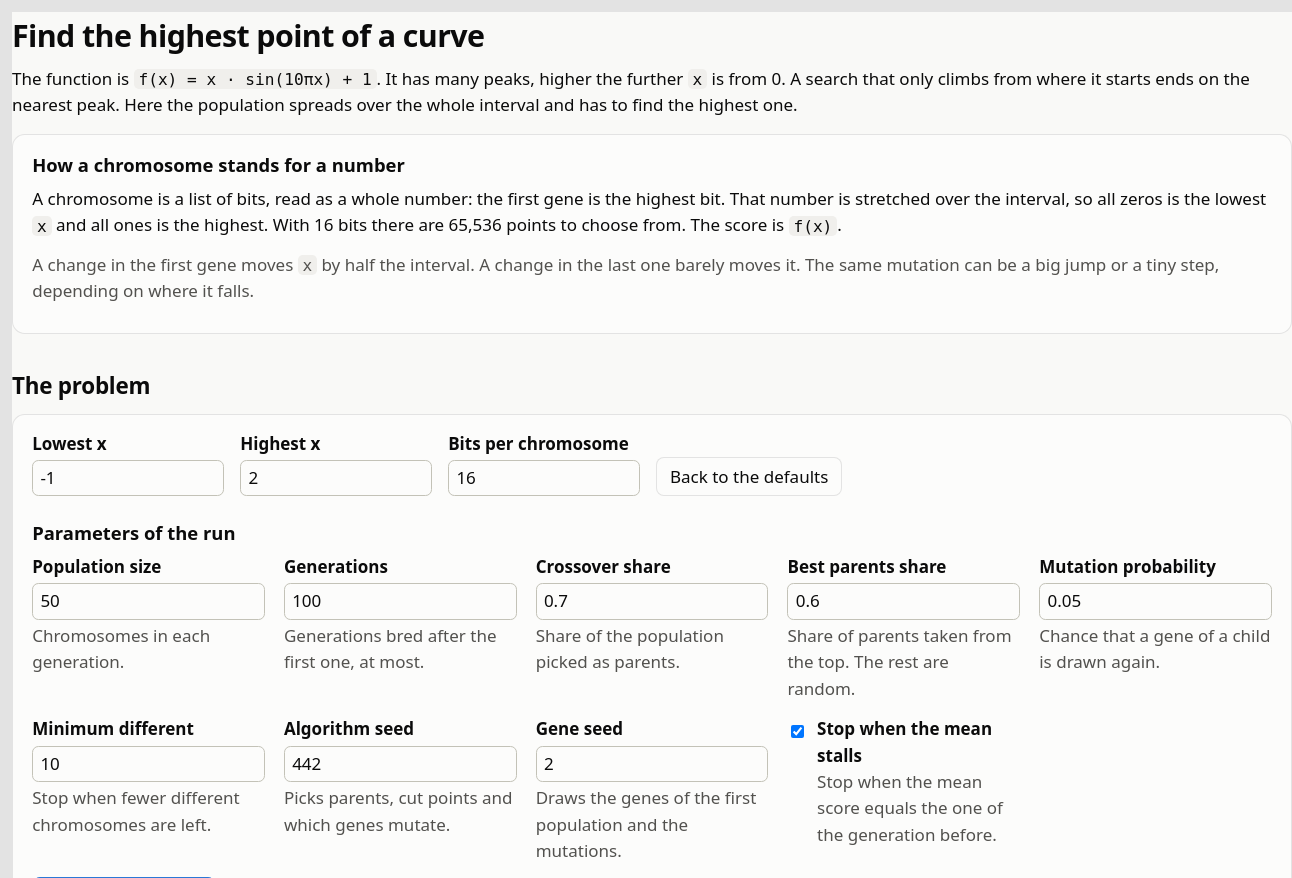
Test case: Function page › goes back to the default interval
Expected: the heading "The problem" is shown, 12,370 -> 150,401
Replace the text in the number field labelled "Lowest x" with "0". click: point(128, 478)
box: 32,460 -> 224,496
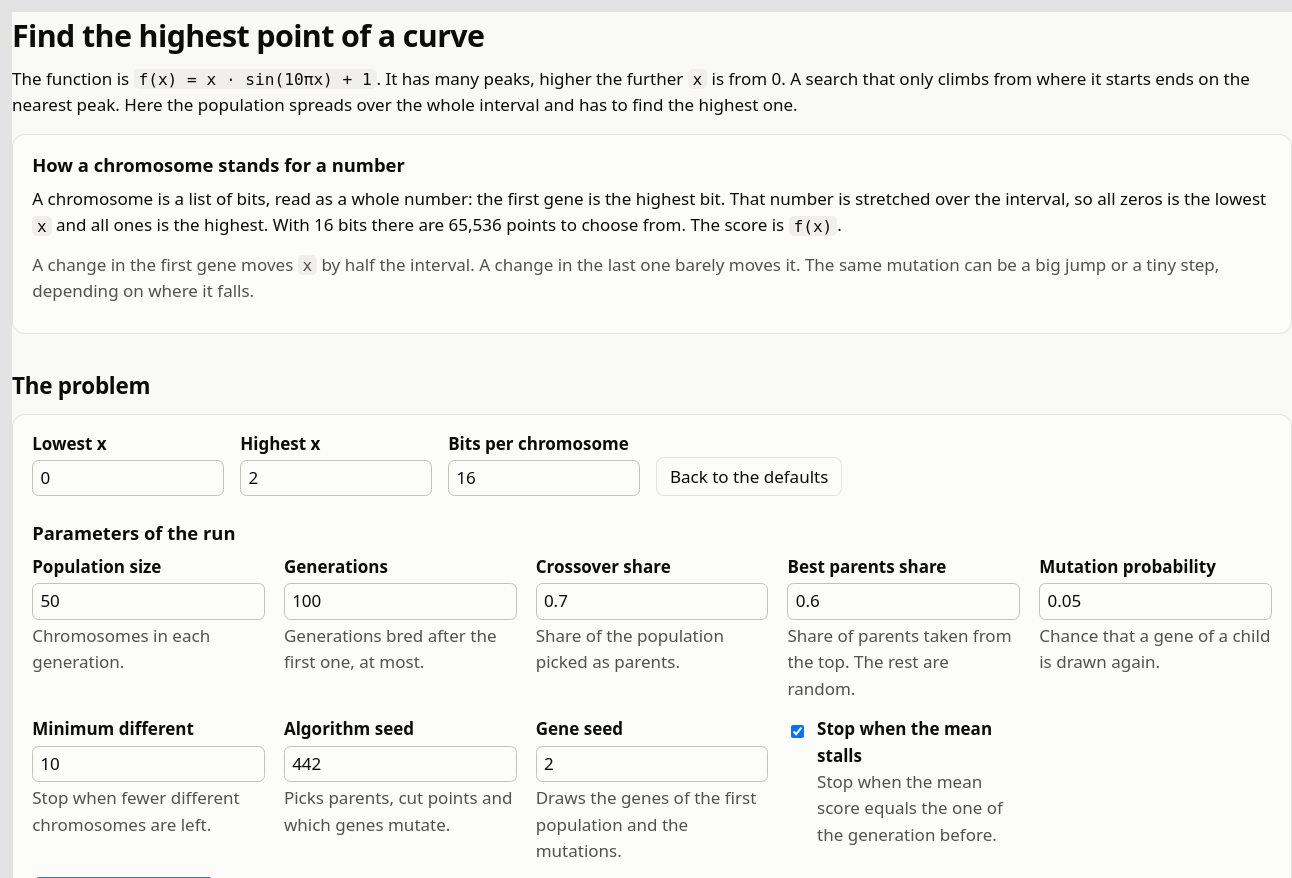
Click the button "Back to the defaults". click: point(749, 477)
box: 656,457 -> 842,496
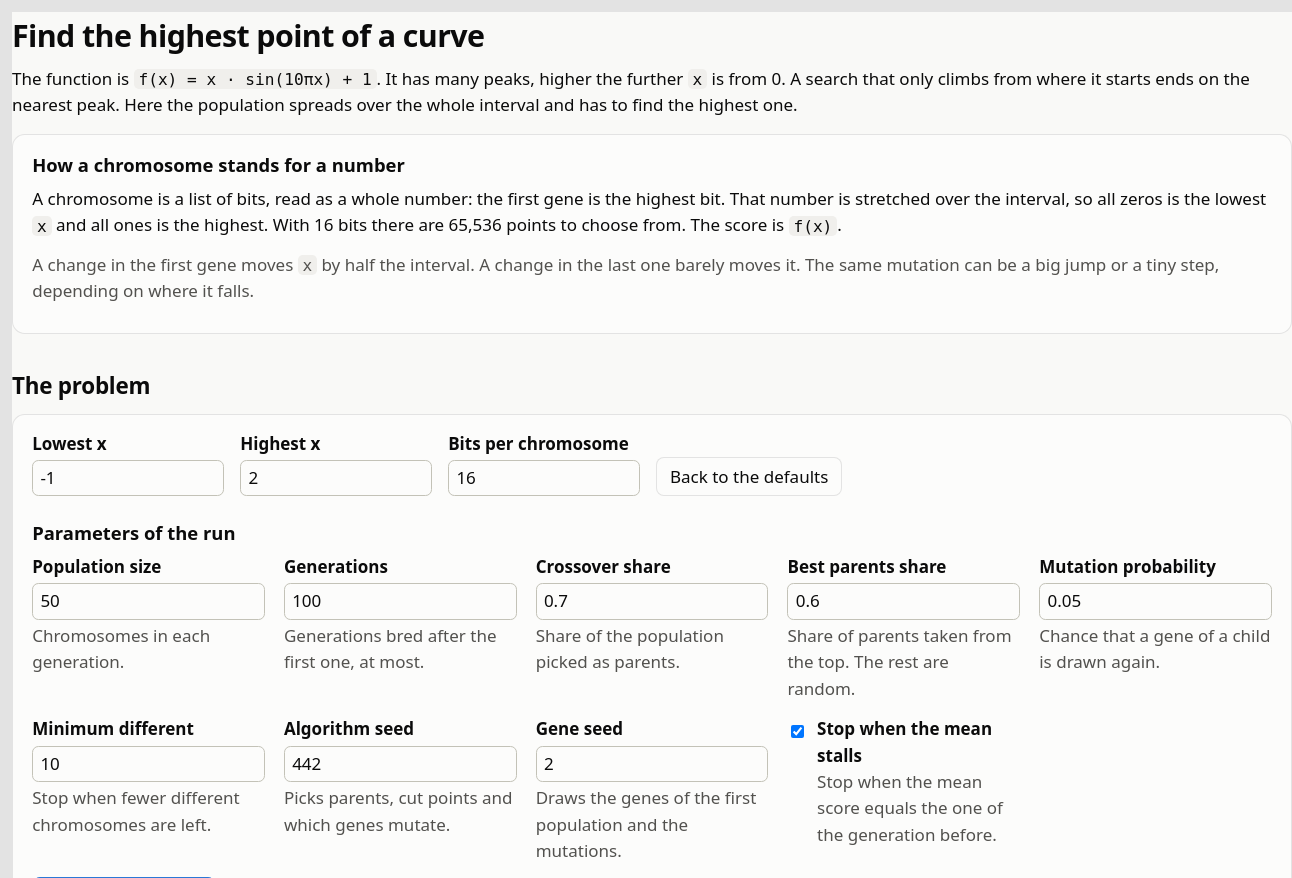
Result: the number field labelled "Lowest x" holds "-1" at 32,460 -> 224,496
